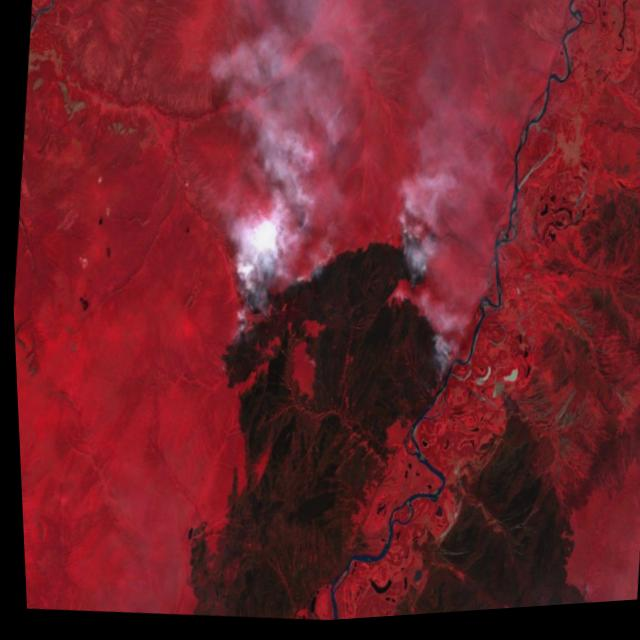fire: (203, 221, 464, 424)
